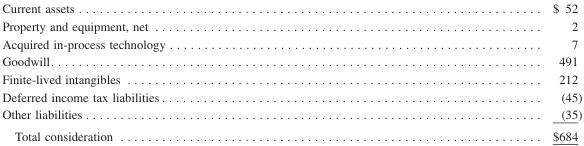table: (1, 1, 581, 142)
table column: (1, 1, 358, 142), (358, 1, 581, 142)
table row: (1, 105, 581, 124), (1, 16, 581, 34), (1, 34, 581, 52), (1, 69, 581, 87), (1, 87, 581, 105), (1, 124, 581, 142), (1, 52, 581, 69), (1, 1, 581, 16)
